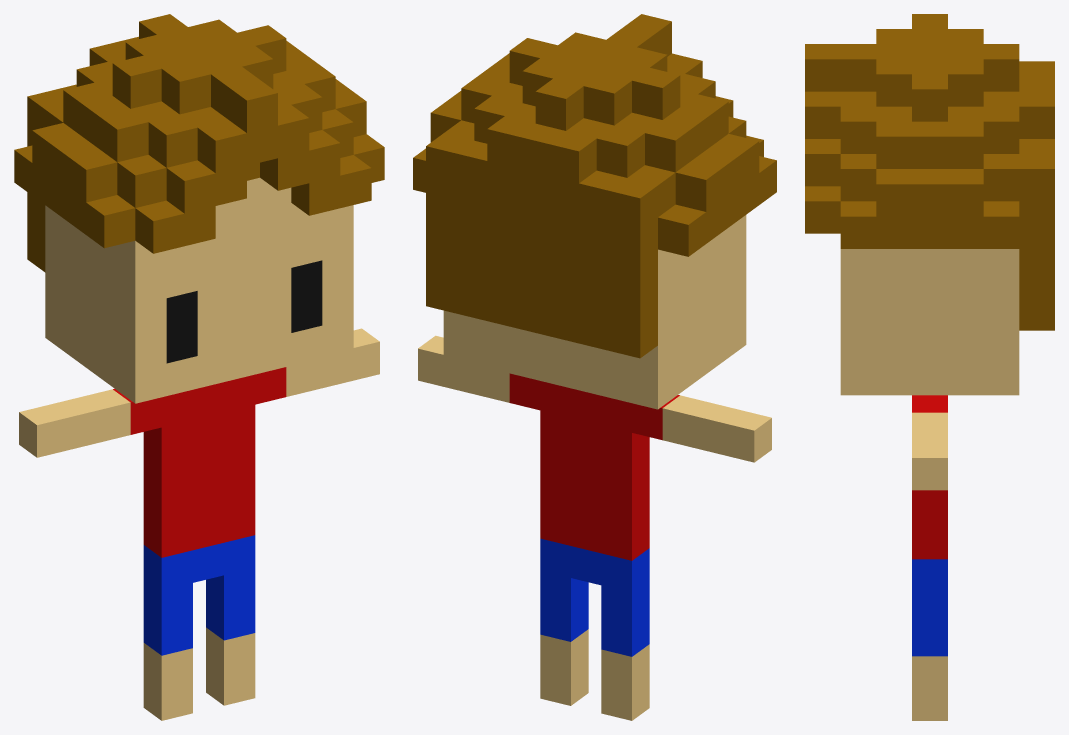
File: boy.obj
The picture shows the model from 3 angles, left to right: view 1: azimuth 30°, elevation 25°; view 2: azimuth 150°, elevation 25°; view 3: azimuth 270°, elevation 25°; orthographic projection.
Visible parts, largest first — view 1: boy; view 2: boy; view 3: boy.
Part boxes in pixels (<box>): boy: <box>14,14,384,720</box>; boy: <box>413,14,776,720</box>; boy: <box>805,14,1054,720</box>.
Size of the model in its own units: 11 by 20 by 7.
Materials: 1 (1 with a texture image).
